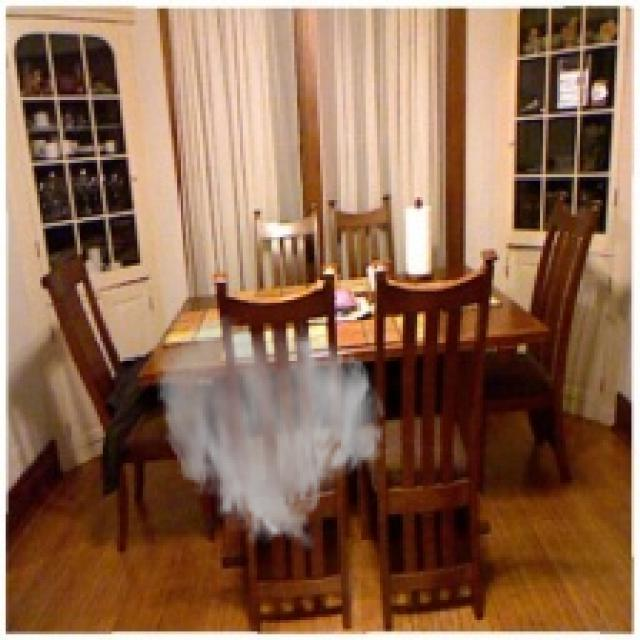Smoke: (154, 312, 389, 554)
